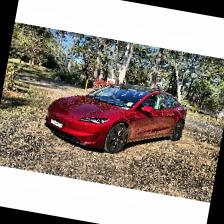EV: (42, 70, 191, 165)
